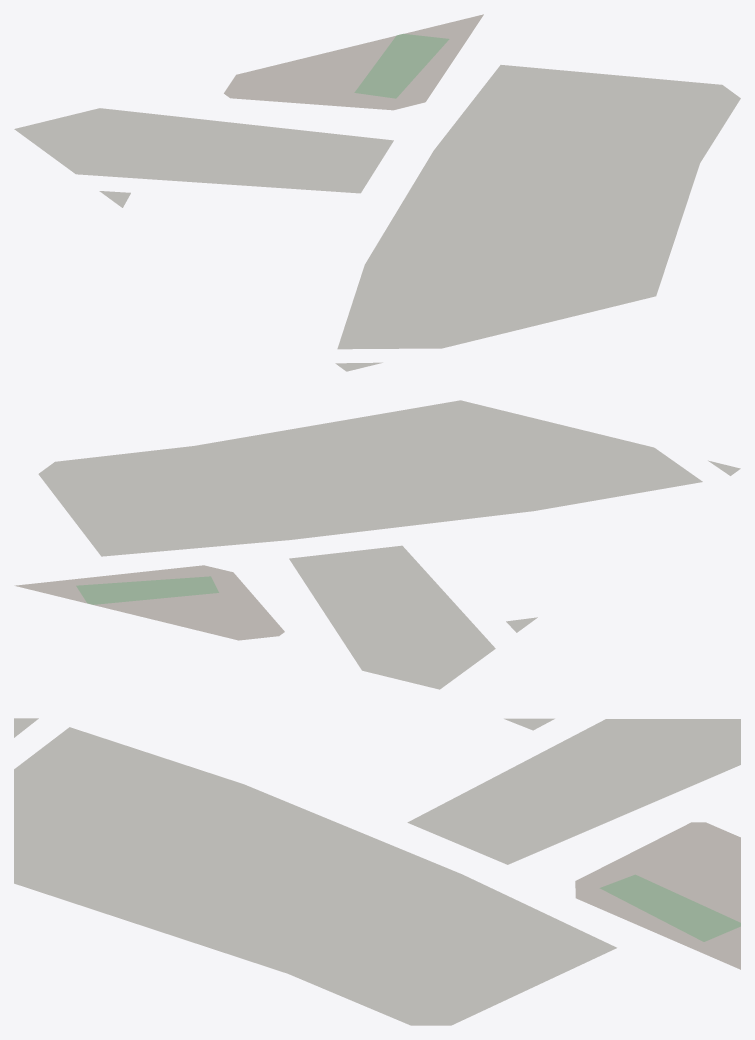
The model's file is 108_94_mid.glb.
3 views of the same model, one above another, from view 1: azimuth 30°, elevation 25°; view 2: azimuth 150°, elevation 25°; view 3: azimuth 270°, elevation 25° (orthographic). The views are drawn at different scales.
Size of the model in its own units: 500 by 0.615 by 500.
